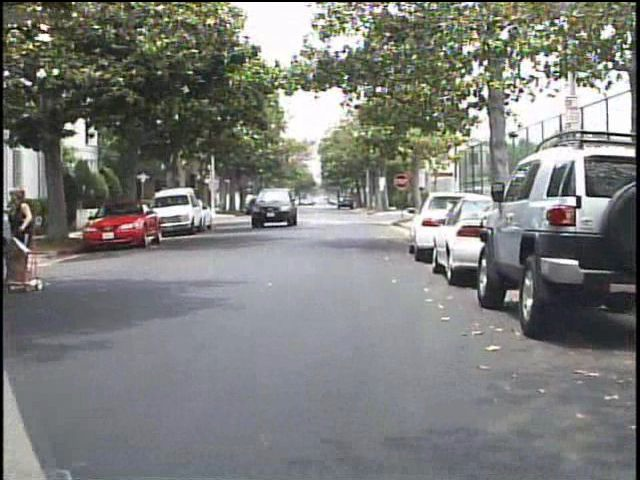person: (5, 184, 47, 297)
